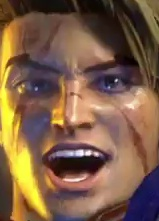kevin: (14, 16, 158, 220)
